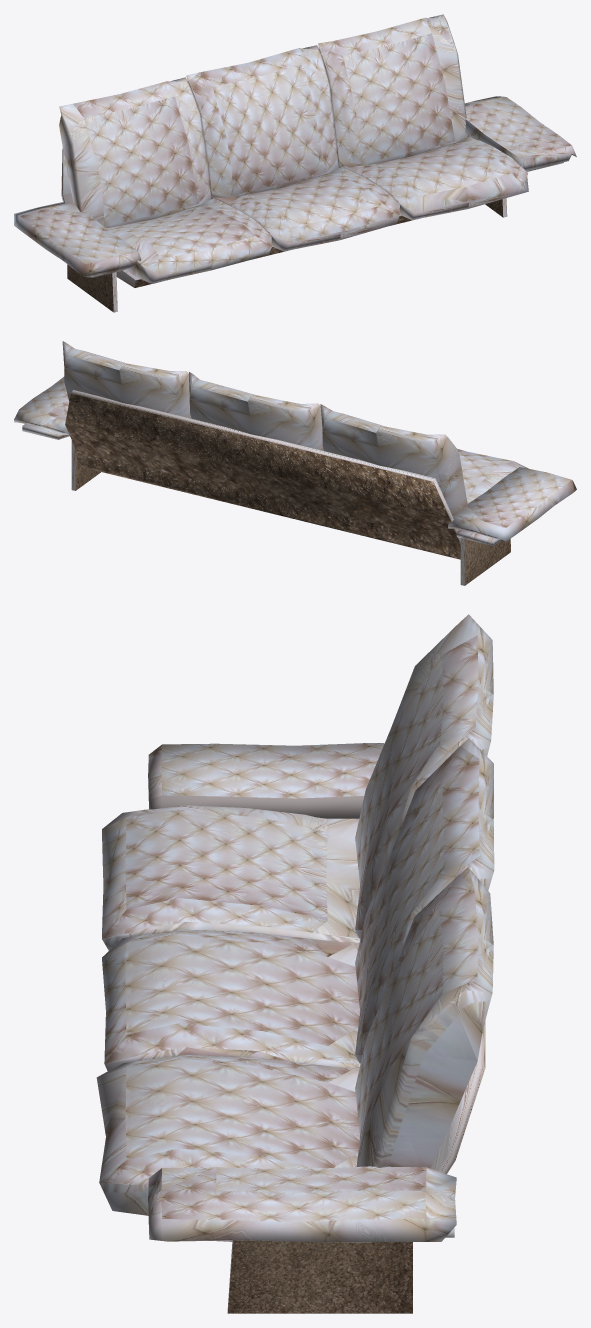
The model's file is sofa6.glb.
3 views of the same model, one above another, from view 1: azimuth 30°, elevation 25°; view 2: azimuth 150°, elevation 25°; view 3: azimuth 270°, elevation 25° (orthographic). The views are drawn at different scales.
Visible parts, largest first — view 1: sofa3; view 2: sofa3; view 3: sofa3.
Part boxes in pixels (<box>): sofa3: <box>14,14,576,312</box>; sofa3: <box>14,341,576,585</box>; sofa3: <box>96,614,494,1313</box>.
Size of the model in its own units: 2.16 by 0.6747 by 0.7572.
Materials: 2 (2 with a texture image).
